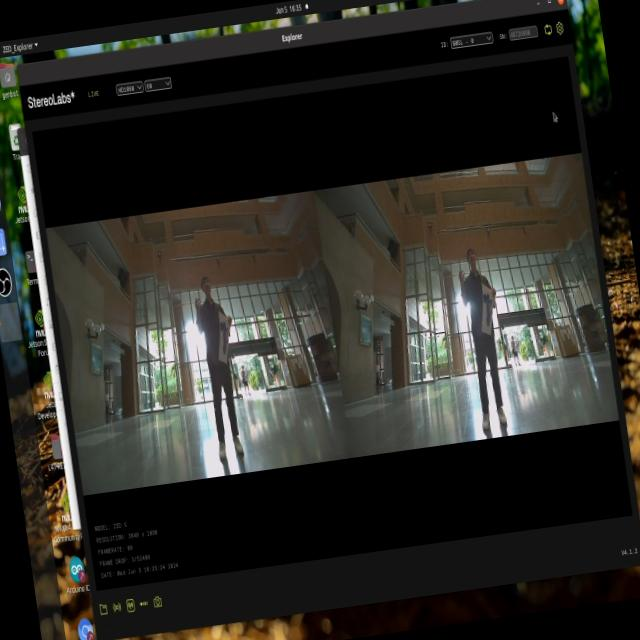blue: (198, 306, 234, 371), (476, 286, 501, 341)
